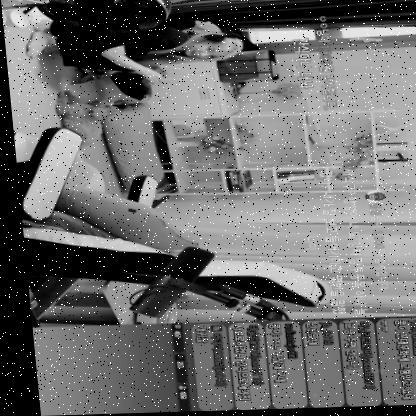donation: (289, 167, 394, 321), (289, 15, 336, 114)
streamer: (19, 13, 248, 90)
